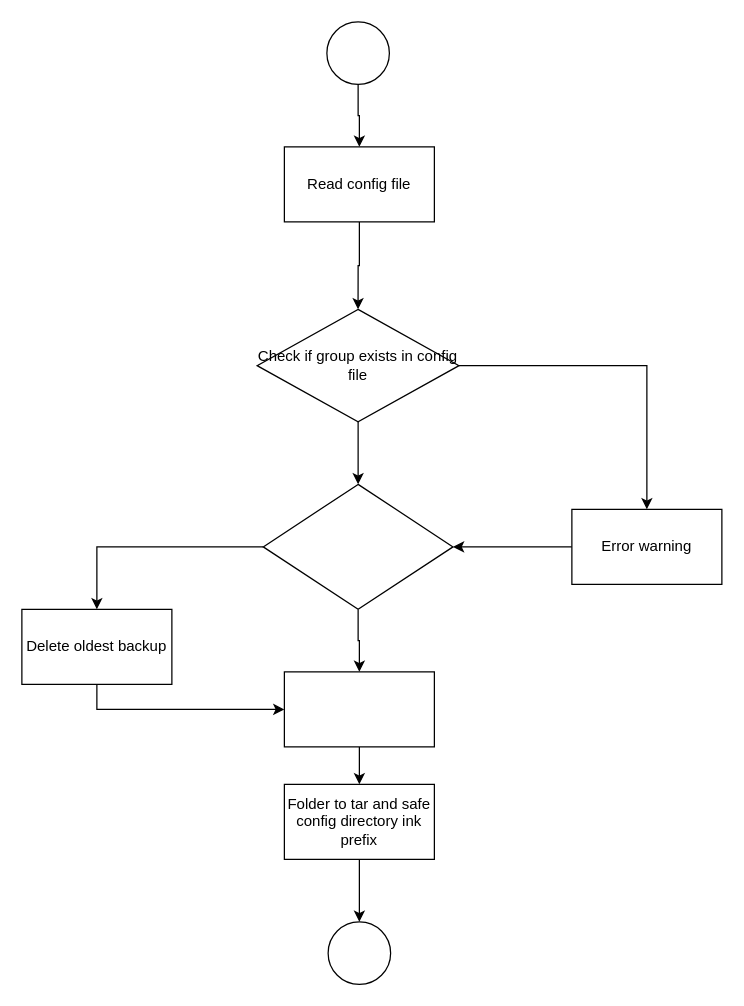
Some shapes in this 744 by 1006 pixel diagram are drawn without their labels. Each missing label, with the centre of its shape:
Check if backup numbers are valid: (357,546)
Find all folders: (358,709)
